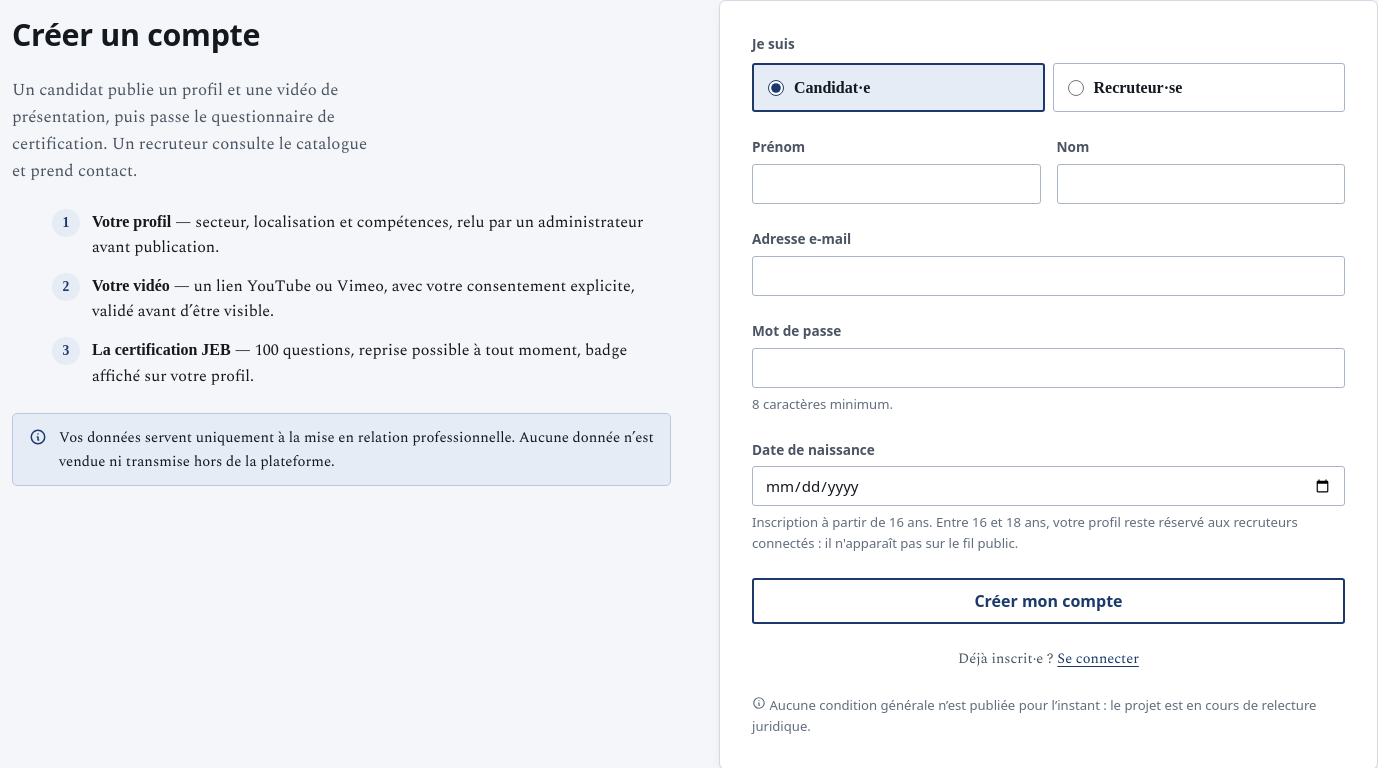
Scenario: RegisterPage › asks a job-seeker for a birth date, and not a recruiter
Expected: the date field labelled "Date de naissance" is shown, [752,466,1345,506]
Click the radio button labelled "Recruteur·se".
click(1076, 88)  # box [1068,80,1084,96]
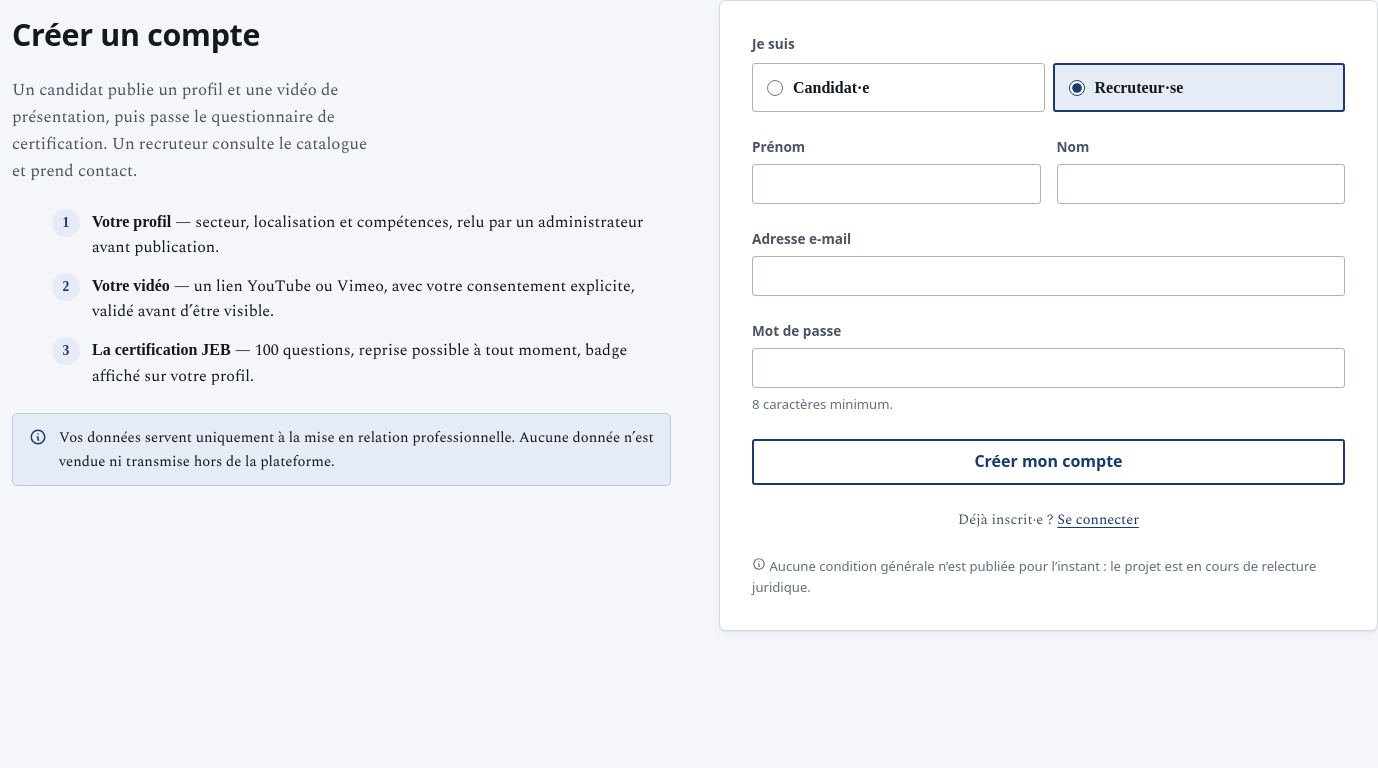
Expected: the label labelled "Date de naissance" is gone
